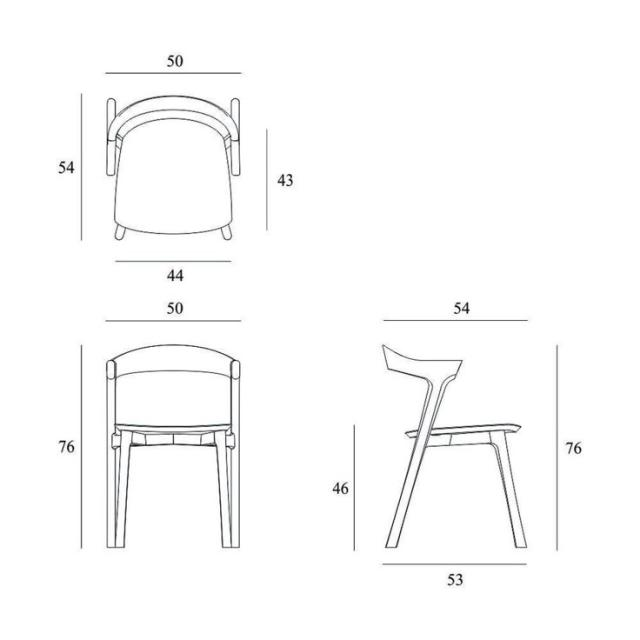Backrest: (375, 336, 478, 428), (100, 337, 247, 389)
Leg_Structure: (377, 434, 537, 553), (100, 440, 246, 554)
Seat: (106, 420, 243, 452), (393, 416, 529, 444)
